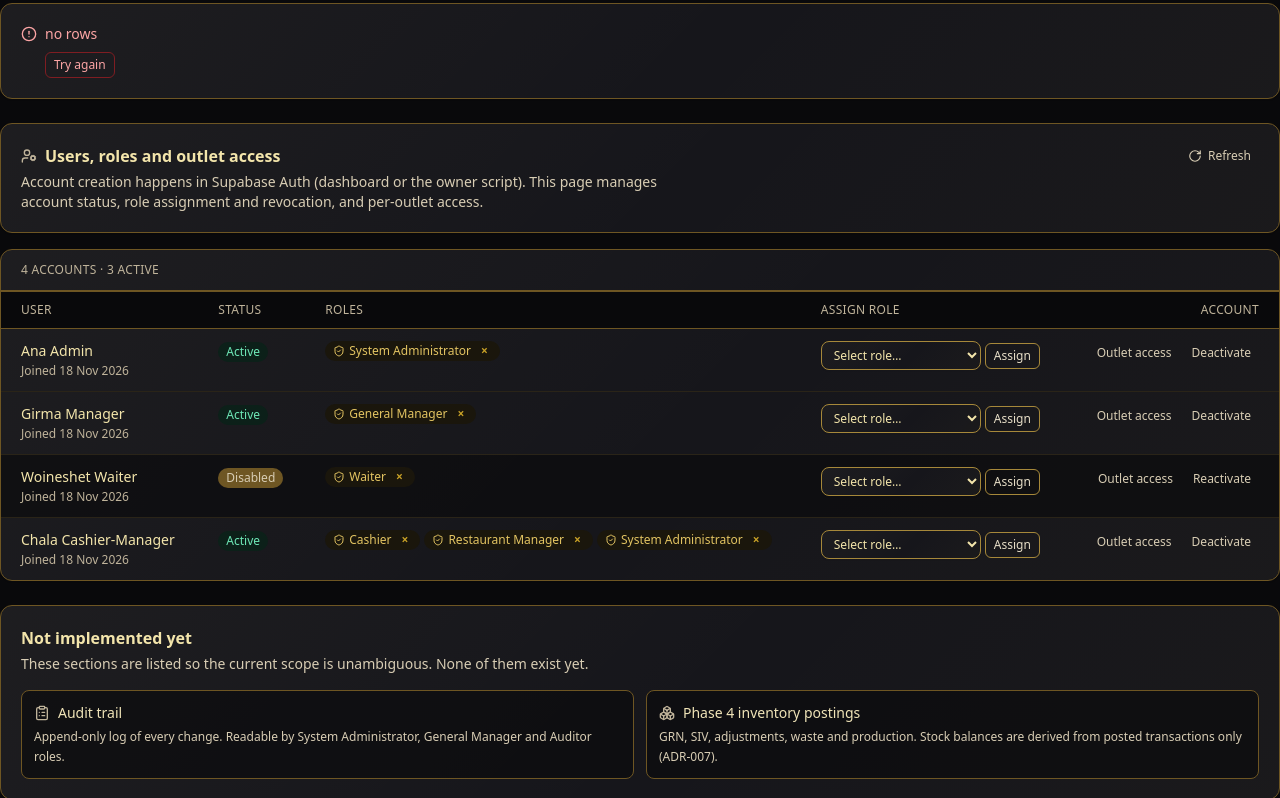
it: Settings — users › shows the database permission error when a change is rejected
(page scrolled)
Expected: the text "Girma Manager" is shown, [21,404,124,423]
Click the button with aria-label "Deactivate Girma Manager".
click(1221, 416)  # box [1184,404,1259,428]
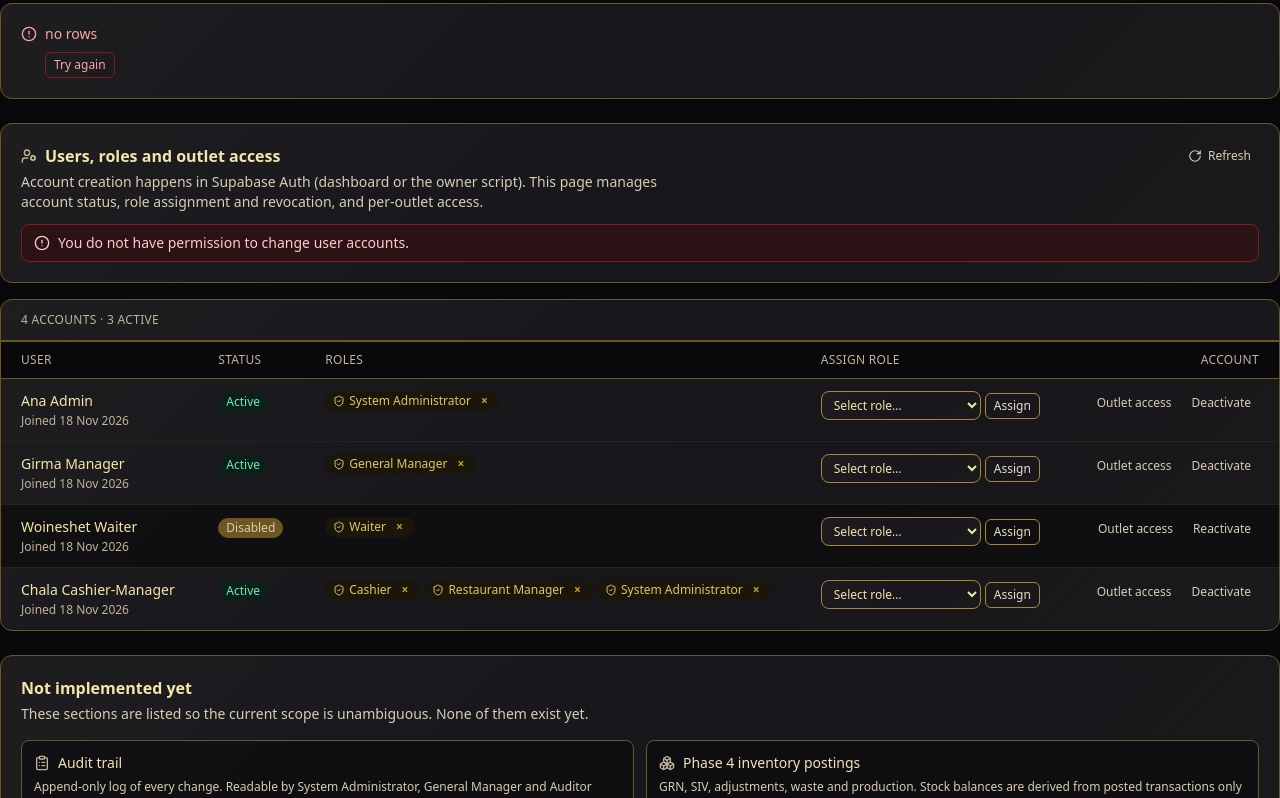
Now the text "You do not have permission to change user accounts." is shown, box [58,233,409,253]
